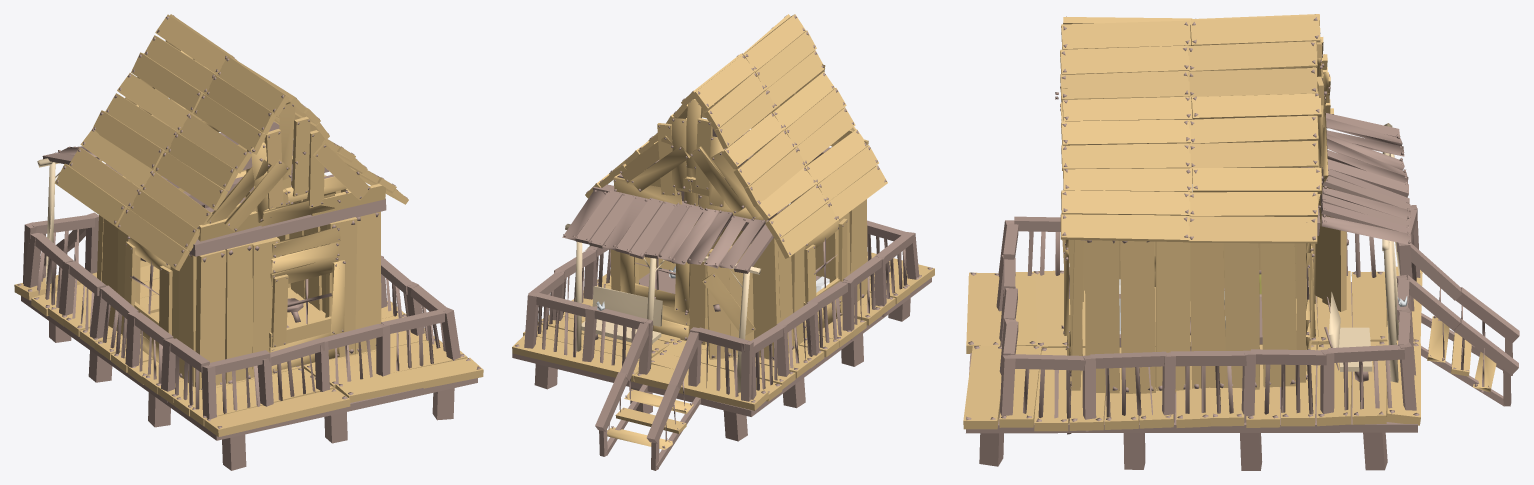
3 renders of one model, left to right at view 1: azimuth 30°, elevation 25°; view 2: azimuth 150°, elevation 25°; view 3: azimuth 270°, elevation 25°, orthographic. The views are drawn at different scales.
Parts seen in each view (by area): view 1: group1261420721; view 2: group1261420721; view 3: group1261420721.
Boxes of the visible parts, left/top/right/bottom form: group1261420721: left=14, top=14, right=483, bottom=470; group1261420721: left=512, top=14, right=934, bottom=470; group1261420721: left=963, top=14, right=1519, bottom=470.
Size of the model in its own units: 200 by 239 by 314.
